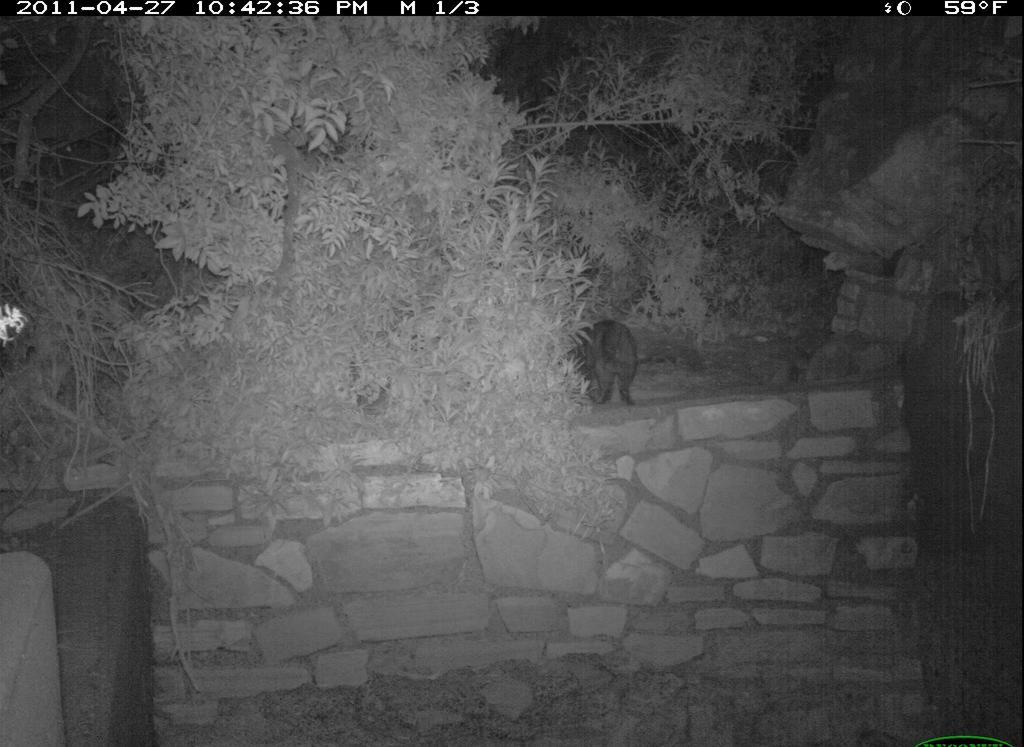cat: (551, 289, 669, 420)
